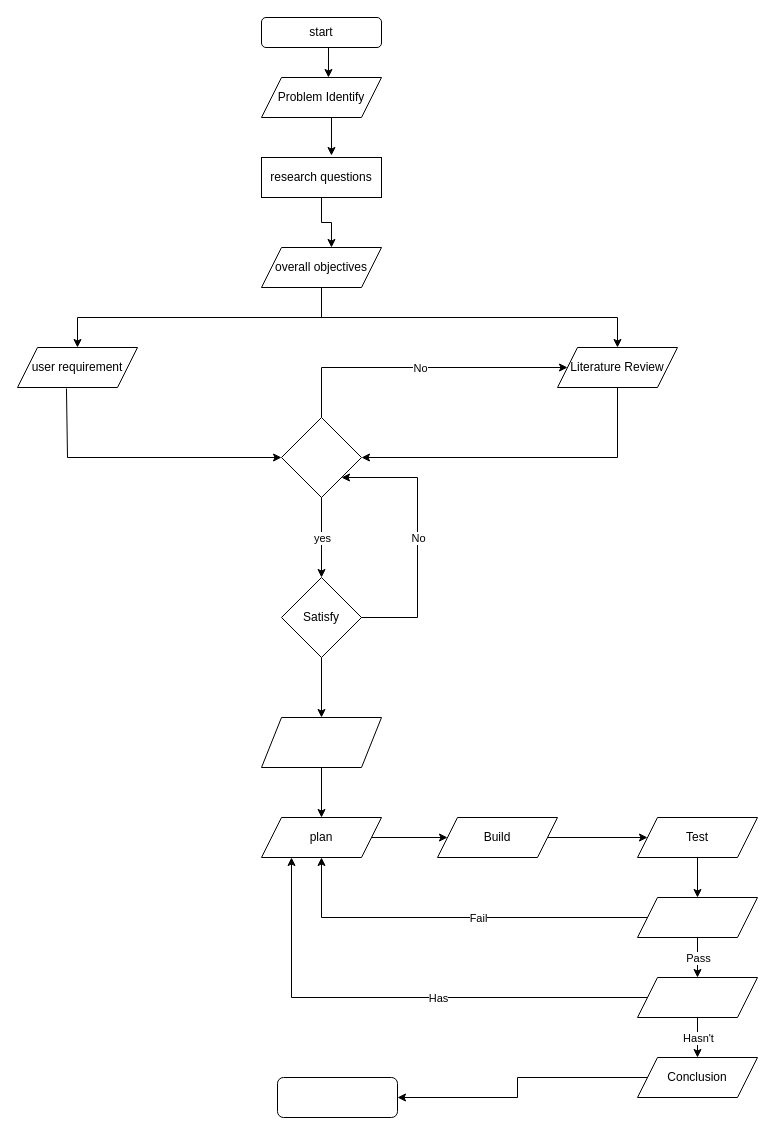
The diagram is 775 pixels wide and 1135 high, and some of its shapes have lost their labels. Here are the shapes that lost their labels. From the top down, the box of each, then its label:
(280, 416, 362, 498): Select Technology
(260, 716, 382, 768): Implementation
(636, 896, 758, 938): Review
(636, 976, 758, 1018): Next Sprint
(276, 1076, 398, 1118): End
